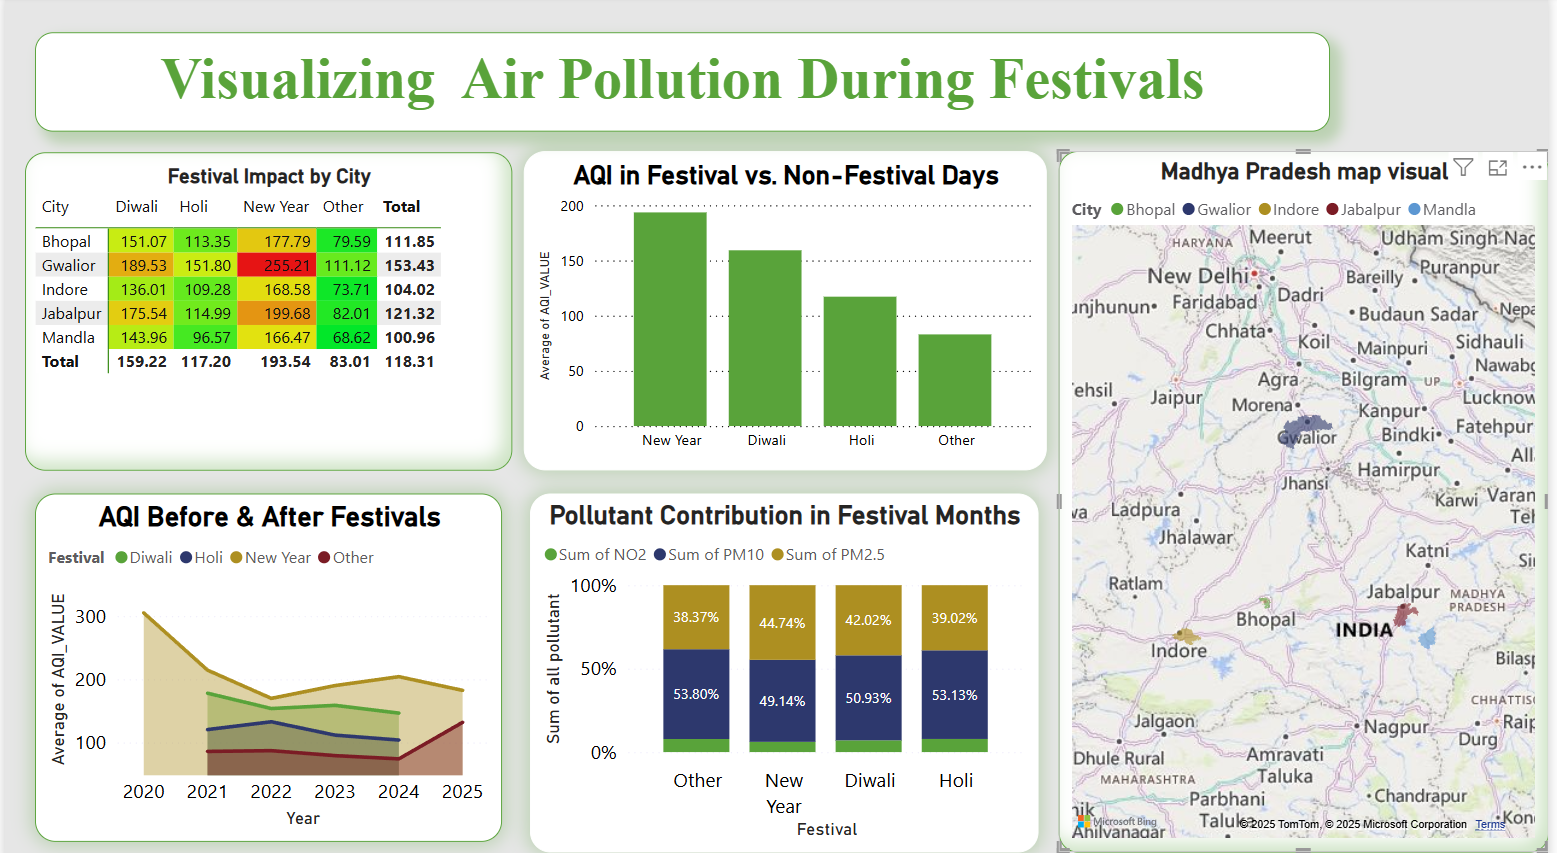

The page's visual inventory and layout, read from the dashboard file:
{"tool":"powerbi","page":{"name":"FestiveAQI","canvas":[1280,720],"ordinal":0},"visuals":[{"type":"lineChart","title":"AQI Before & After Festivals","fields":{"Y":["Avg(india_air_quality_with_AQI1.AQI_VALUE)"],"Series":["india_air_quality_with_AQI1.Festival"],"Category":["india_air_quality_with_AQI1.Date.Variation.Date Hierarchy.Year"]},"box":[25,412.5,387.5,288.8],"z":0},{"type":"columnChart","title":"AQI in Festival vs. Non-Festival Days","fields":{"Category":["india_air_quality_with_AQI1.Festival"],"Y":["Avg(india_air_quality_with_AQI1.AQI_VALUE)"]},"box":[430,128.8,433.8,265],"z":1000},{"type":"pivotTable","title":"Festival Impact by City","fields":{"Columns":["india_air_quality_with_AQI1.Festival"],"Rows":["india_air_quality_with_AQI1.City"],"Values":["Avg(india_air_quality_with_AQI1.AQI_VALUE)"]},"box":[16.2,130,403.8,263.8],"z":2000},{"type":"hundredPercentStackedColumnChart","title":"Pollutant Contribution in Festival Months","fields":{"Category":["india_air_quality_with_AQI1.Festival"],"Y":["Sum(india_air_quality_with_AQI1.NO2)","Sum(india_air_quality_with_AQI1.PM10)","Sum(india_air_quality_with_AQI1.PM2.5)"]},"box":[435,412.5,421.2,297.5],"z":3000},{"type":"filledMap","title":"Madhya Pradesh map visual","fields":{"Category":["india_air_quality_with_AQI1.City"],"Series":["india_air_quality_with_AQI1.City"]},"box":[873.8,128.8,406.2,581.2],"z":4000},{"type":"textbox","box":[25,30,1073.8,82.5],"z":5000}]}

Visuals, with their boxes in screenshot pixels (x1, y1, x2, y2), scaled from the page's 1280x720 canvas onto the 1557x853 screenshot:
"AQI Before & After Festivals" lineChart: (30, 489, 502, 831)
"AQI in Festival vs. Non-Festival Days" columnChart: (523, 153, 1051, 467)
"Festival Impact by City" pivotTable: (20, 154, 511, 467)
"Pollutant Contribution in Festival Months" hundredPercentStackedColumnChart: (529, 489, 1041, 841)
"Madhya Pradesh map visual" filledMap: (1063, 153, 1556, 841)
textbox: (30, 36, 1337, 133)
